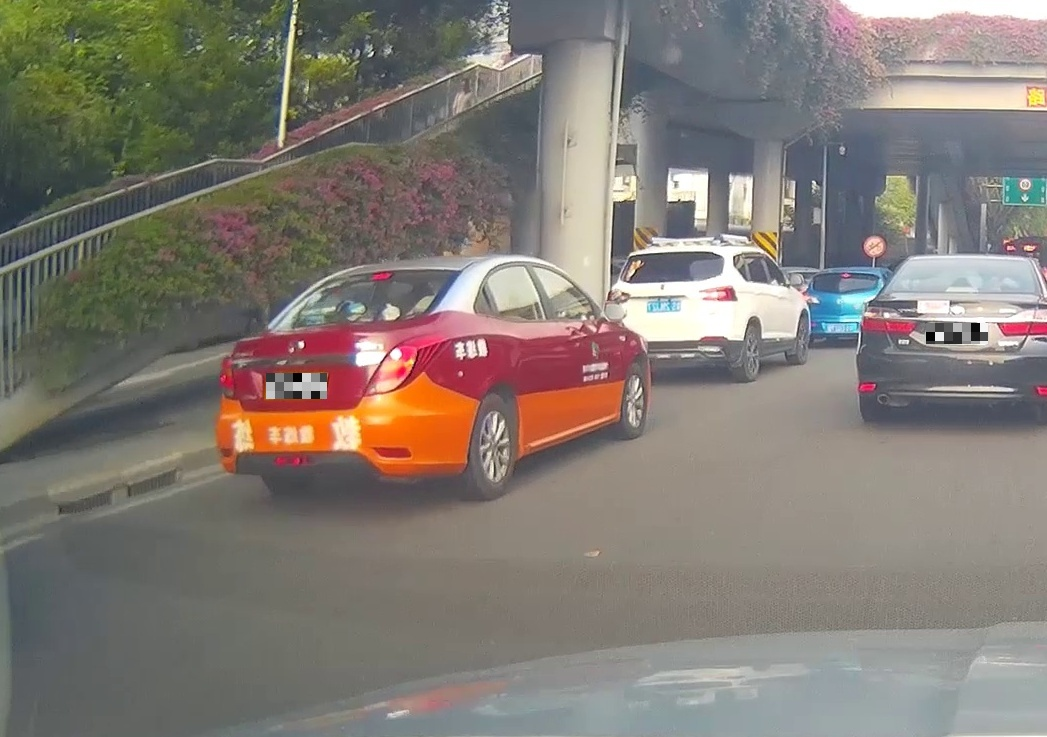L_light: (859, 306, 918, 336), (219, 356, 235, 399), (607, 288, 631, 304)
R_light: (363, 344, 418, 397), (996, 308, 1047, 336), (699, 286, 738, 301)
T_light: (945, 286, 979, 292), (370, 272, 393, 279), (668, 251, 693, 256)
day-brake: (217, 255, 488, 501)
day-no: (854, 253, 1047, 425), (605, 245, 741, 381)
plate_1: (266, 373, 327, 399)
plate_2: (926, 323, 988, 344)
